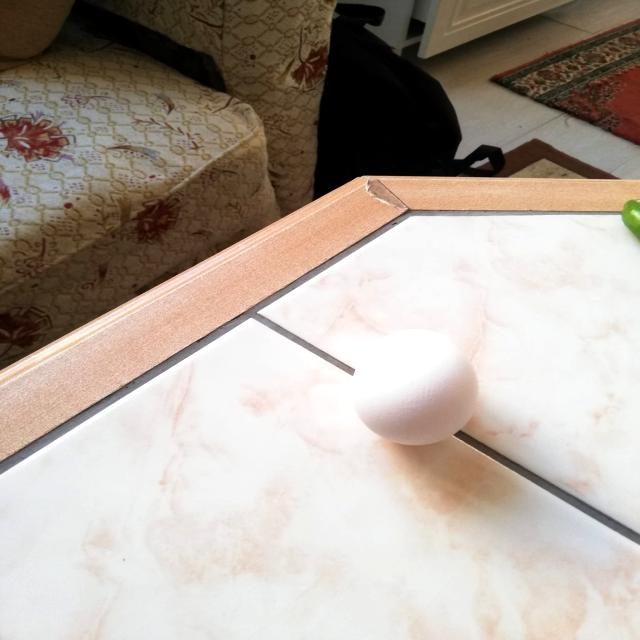egg: (343, 325, 483, 448)
